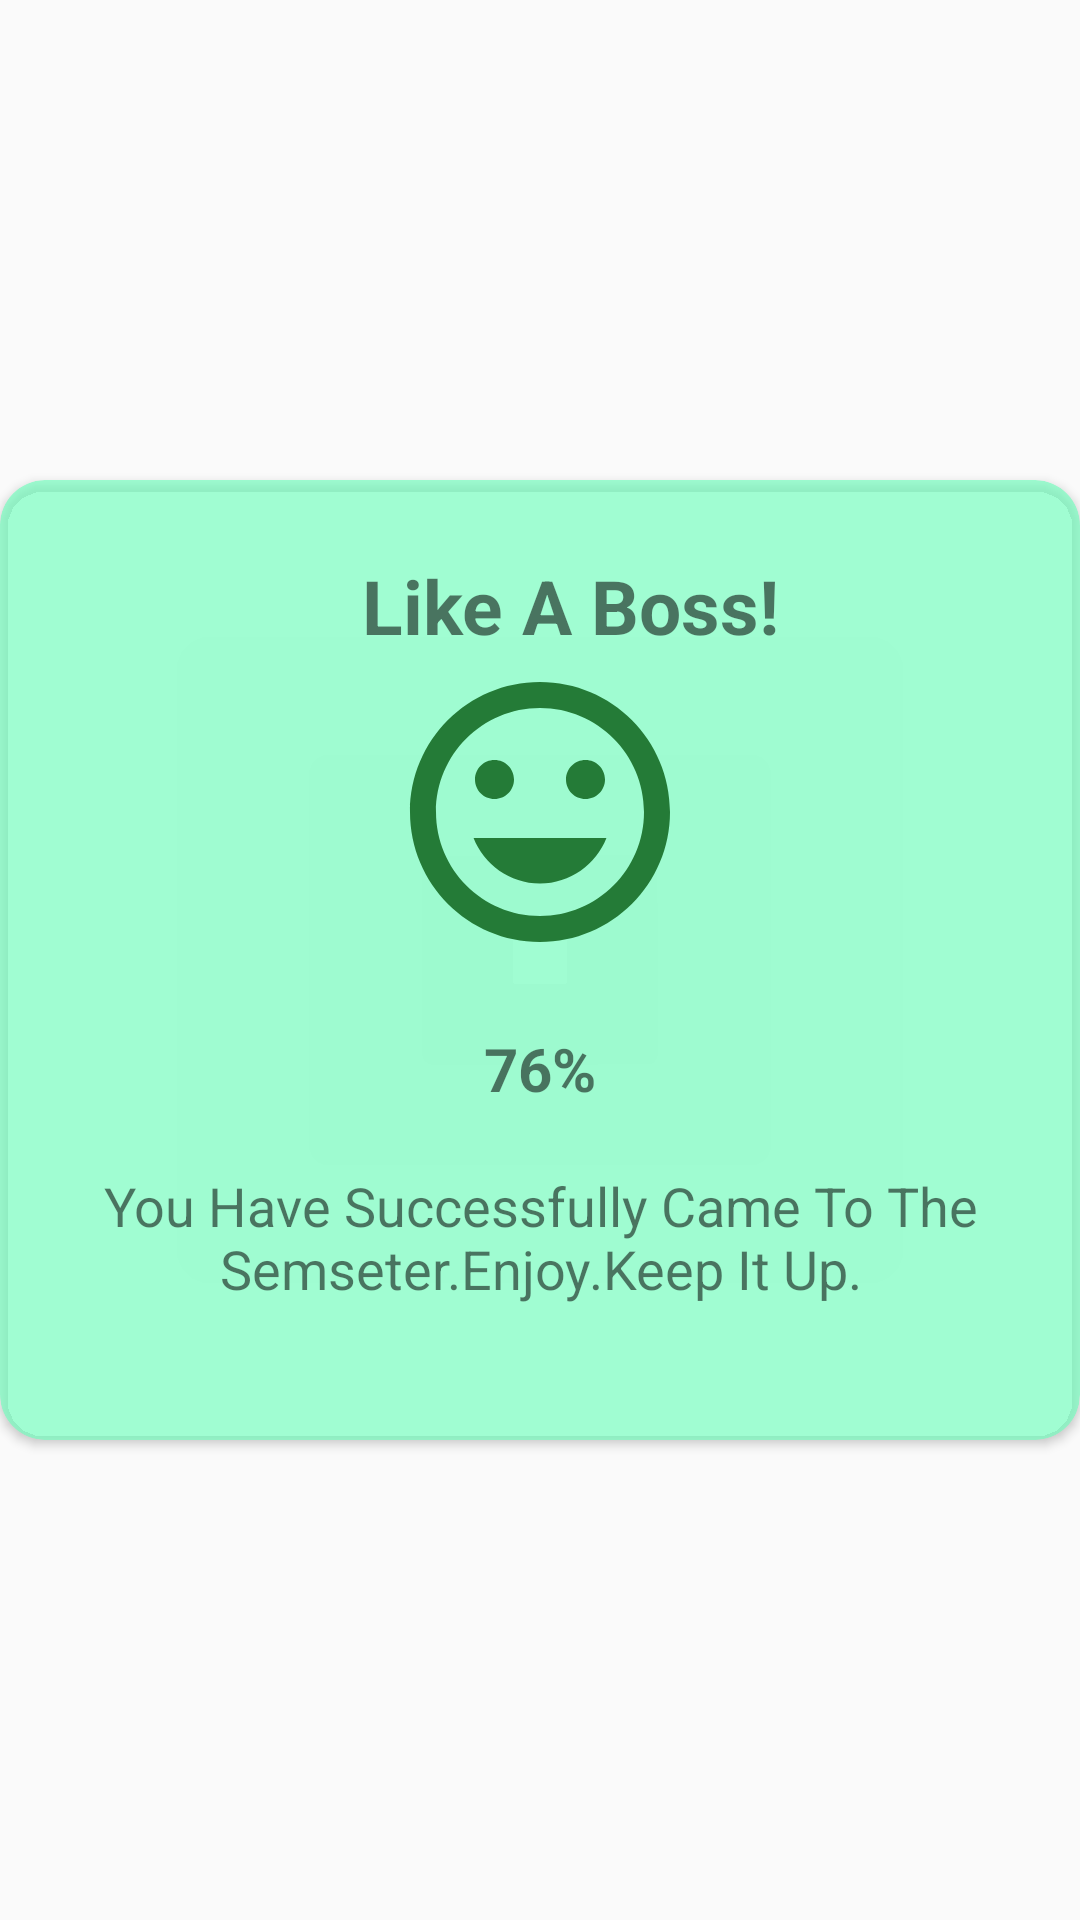

Icon click points for this 1080w x 1920h phone screenshot, format (x=x, y=y):
positive: (x=540, y=812)
